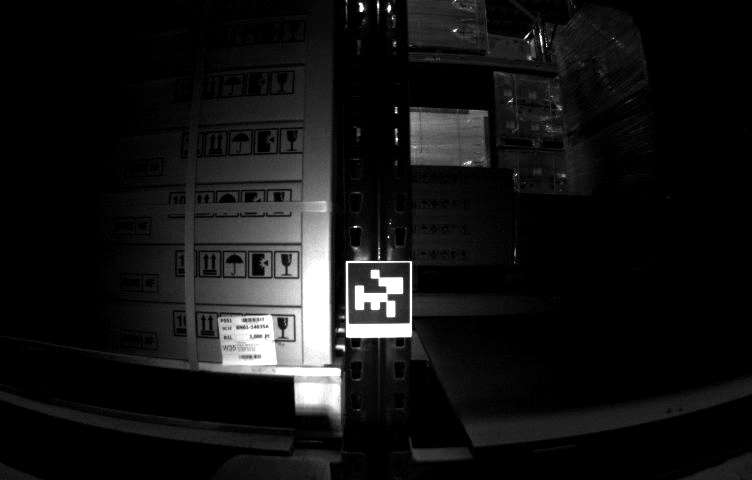True Barcode: (215, 313, 279, 368)
